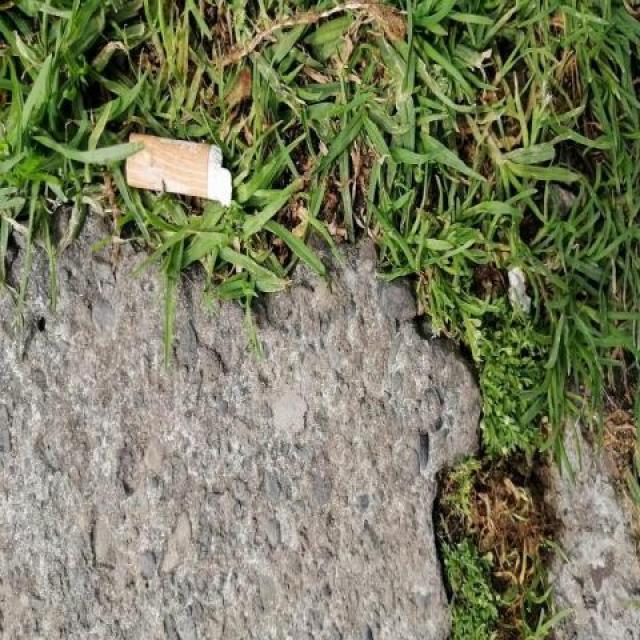non-organic waste: (126, 126, 235, 211)
